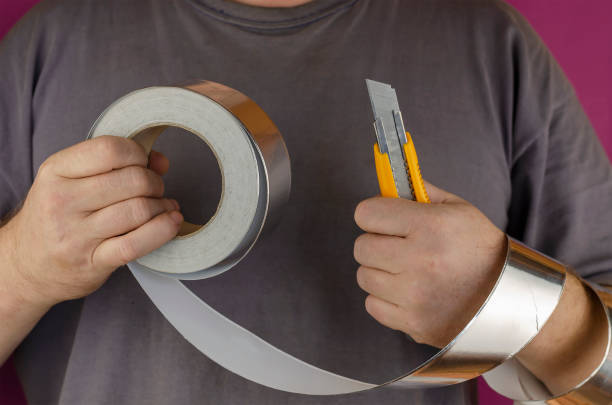knife: (366, 78, 430, 203)
